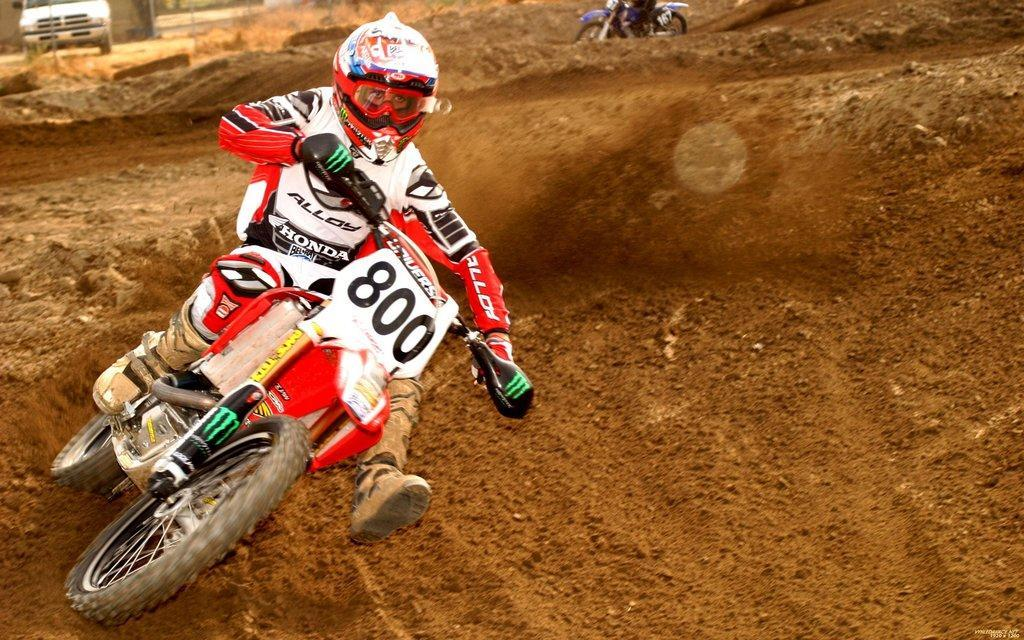helmet: (331, 11, 440, 166)
